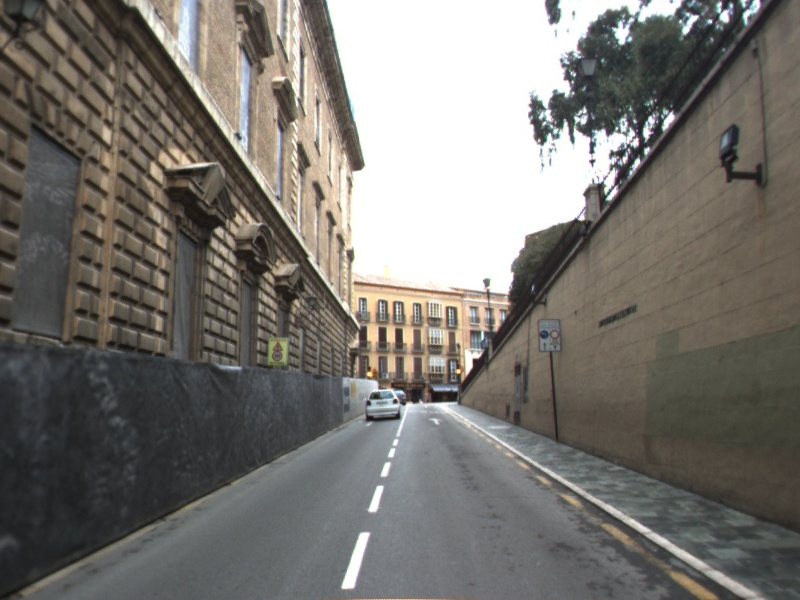LEFT: (356, 418, 375, 427)
STRAIGHT: (426, 416, 444, 426)
